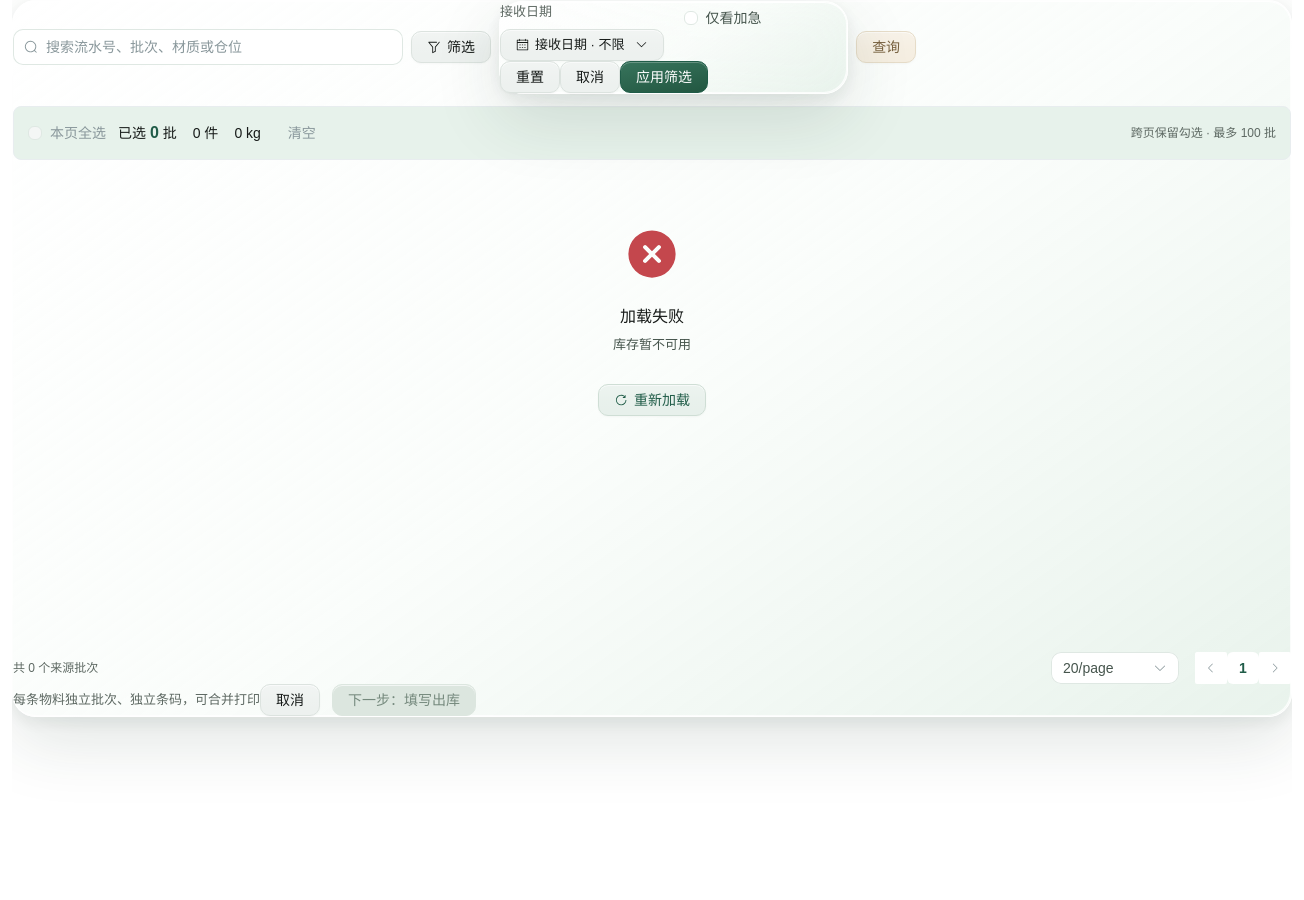
Test case: stock selection for new outbound › shows read failures, prevents progression and allows retry
This screenshot has width=1304, height=900.
Expected: the button "下一步：填写出库" is disabled, top-left (332, 684), bottom-right (476, 716)
Click the button "重新加载": (652, 400) top-left (598, 384), bottom-right (706, 416)
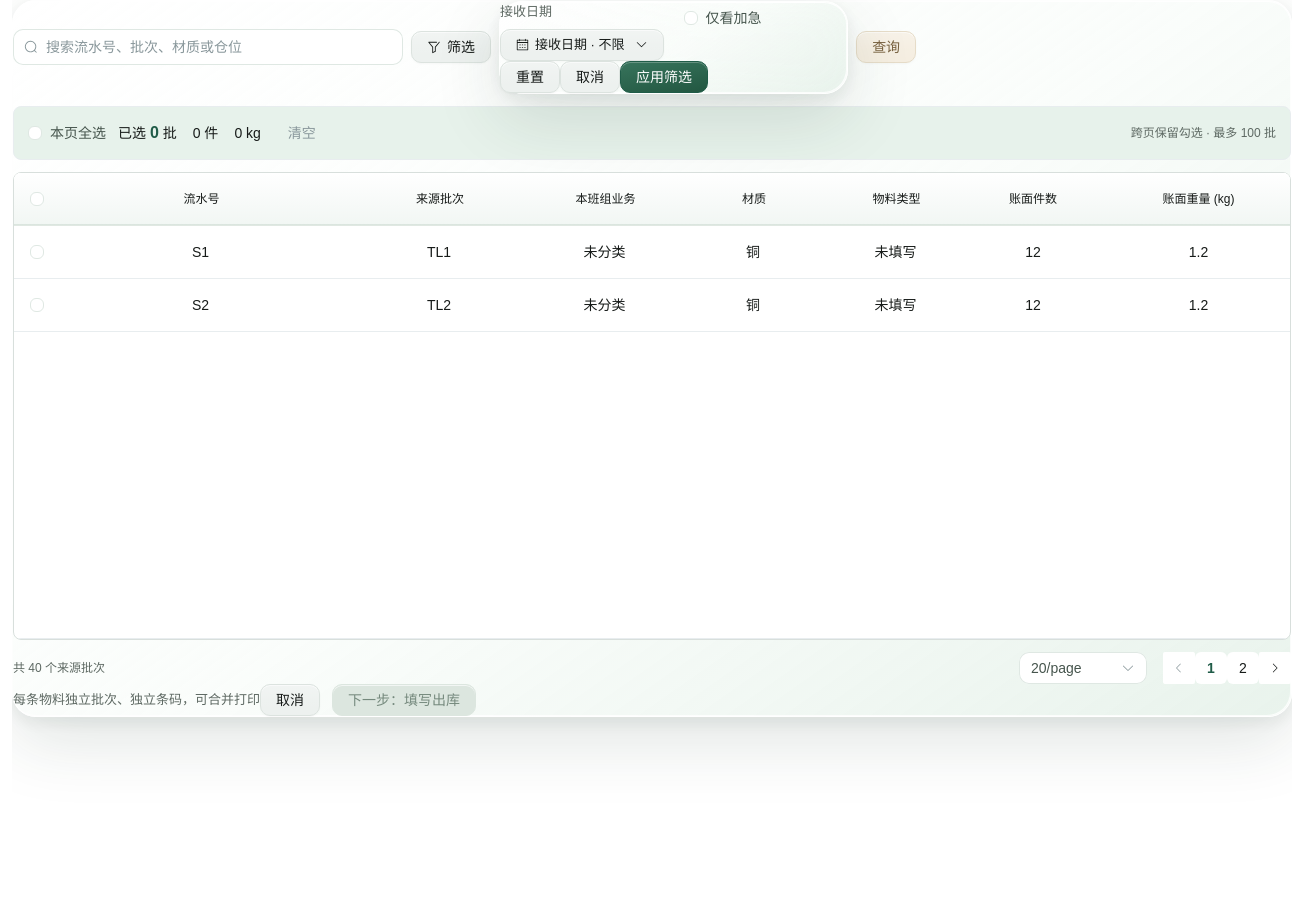
Expected: the text "TL1" is shown, top-left (427, 244), bottom-right (451, 260)
